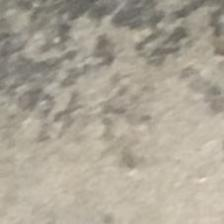Non_Crack: (15, 18, 224, 211)
